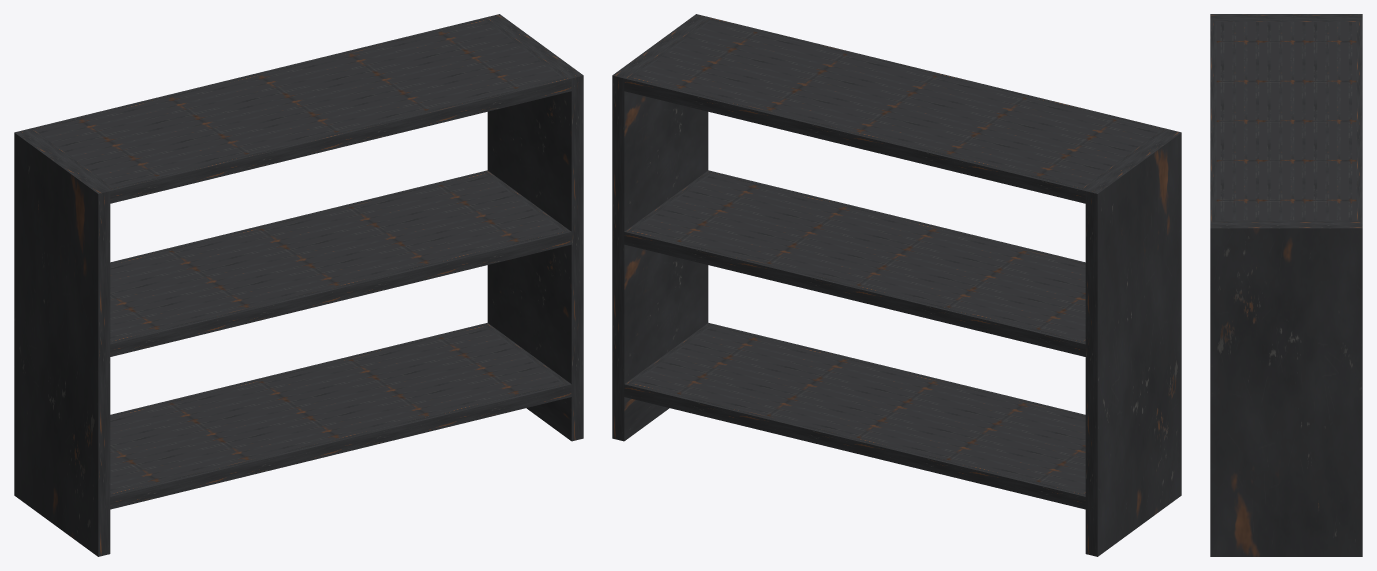
File: Table.fbx
The picture shows the model from 3 angles, left to right: view 1: azimuth 30°, elevation 25°; view 2: azimuth 150°, elevation 25°; view 3: azimuth 270°, elevation 25°; orthographic projection. The views are drawn at different scales.
Parts seen in each view (by area): view 1: SM_Table; view 2: SM_Table; view 3: SM_Table.
Boxes of the visible parts, x1,y1,x2,y2 form: SM_Table: [14, 14, 583, 556]; SM_Table: [612, 14, 1181, 556]; SM_Table: [1210, 14, 1362, 556].
Bounding box in the file's own units: 2000 × 600 × 1429.
